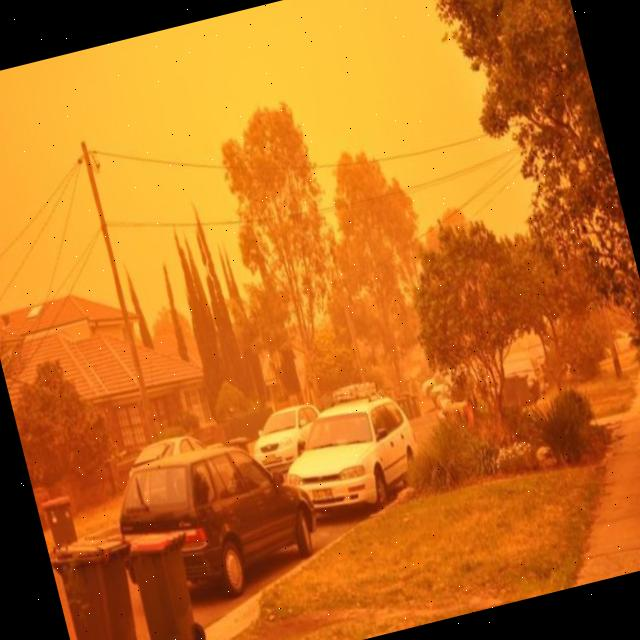car: (104, 414, 328, 621), (272, 384, 428, 530), (243, 398, 334, 482), (119, 421, 216, 473), (420, 363, 453, 408)
